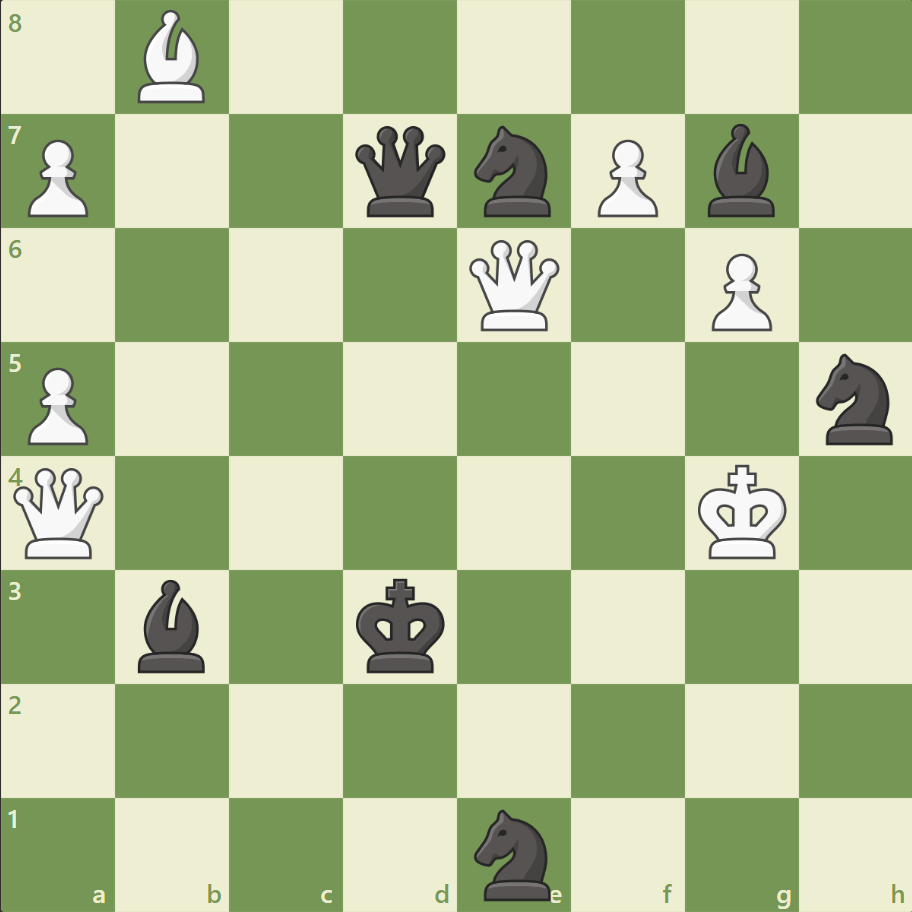B: (131, 6, 215, 109)
K: (692, 458, 792, 566)
P: (20, 132, 95, 223), (701, 246, 776, 337), (20, 359, 95, 450), (588, 132, 662, 223)
Q: (464, 236, 563, 335), (10, 463, 109, 562)
b: (698, 120, 782, 222), (131, 574, 215, 676)
k: (351, 571, 451, 679)
n: (465, 121, 562, 223), (806, 348, 903, 450), (465, 802, 562, 904)
q: (351, 122, 450, 222)
